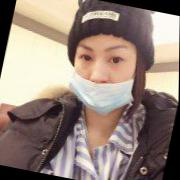WRONG: (67, 28, 141, 116)
